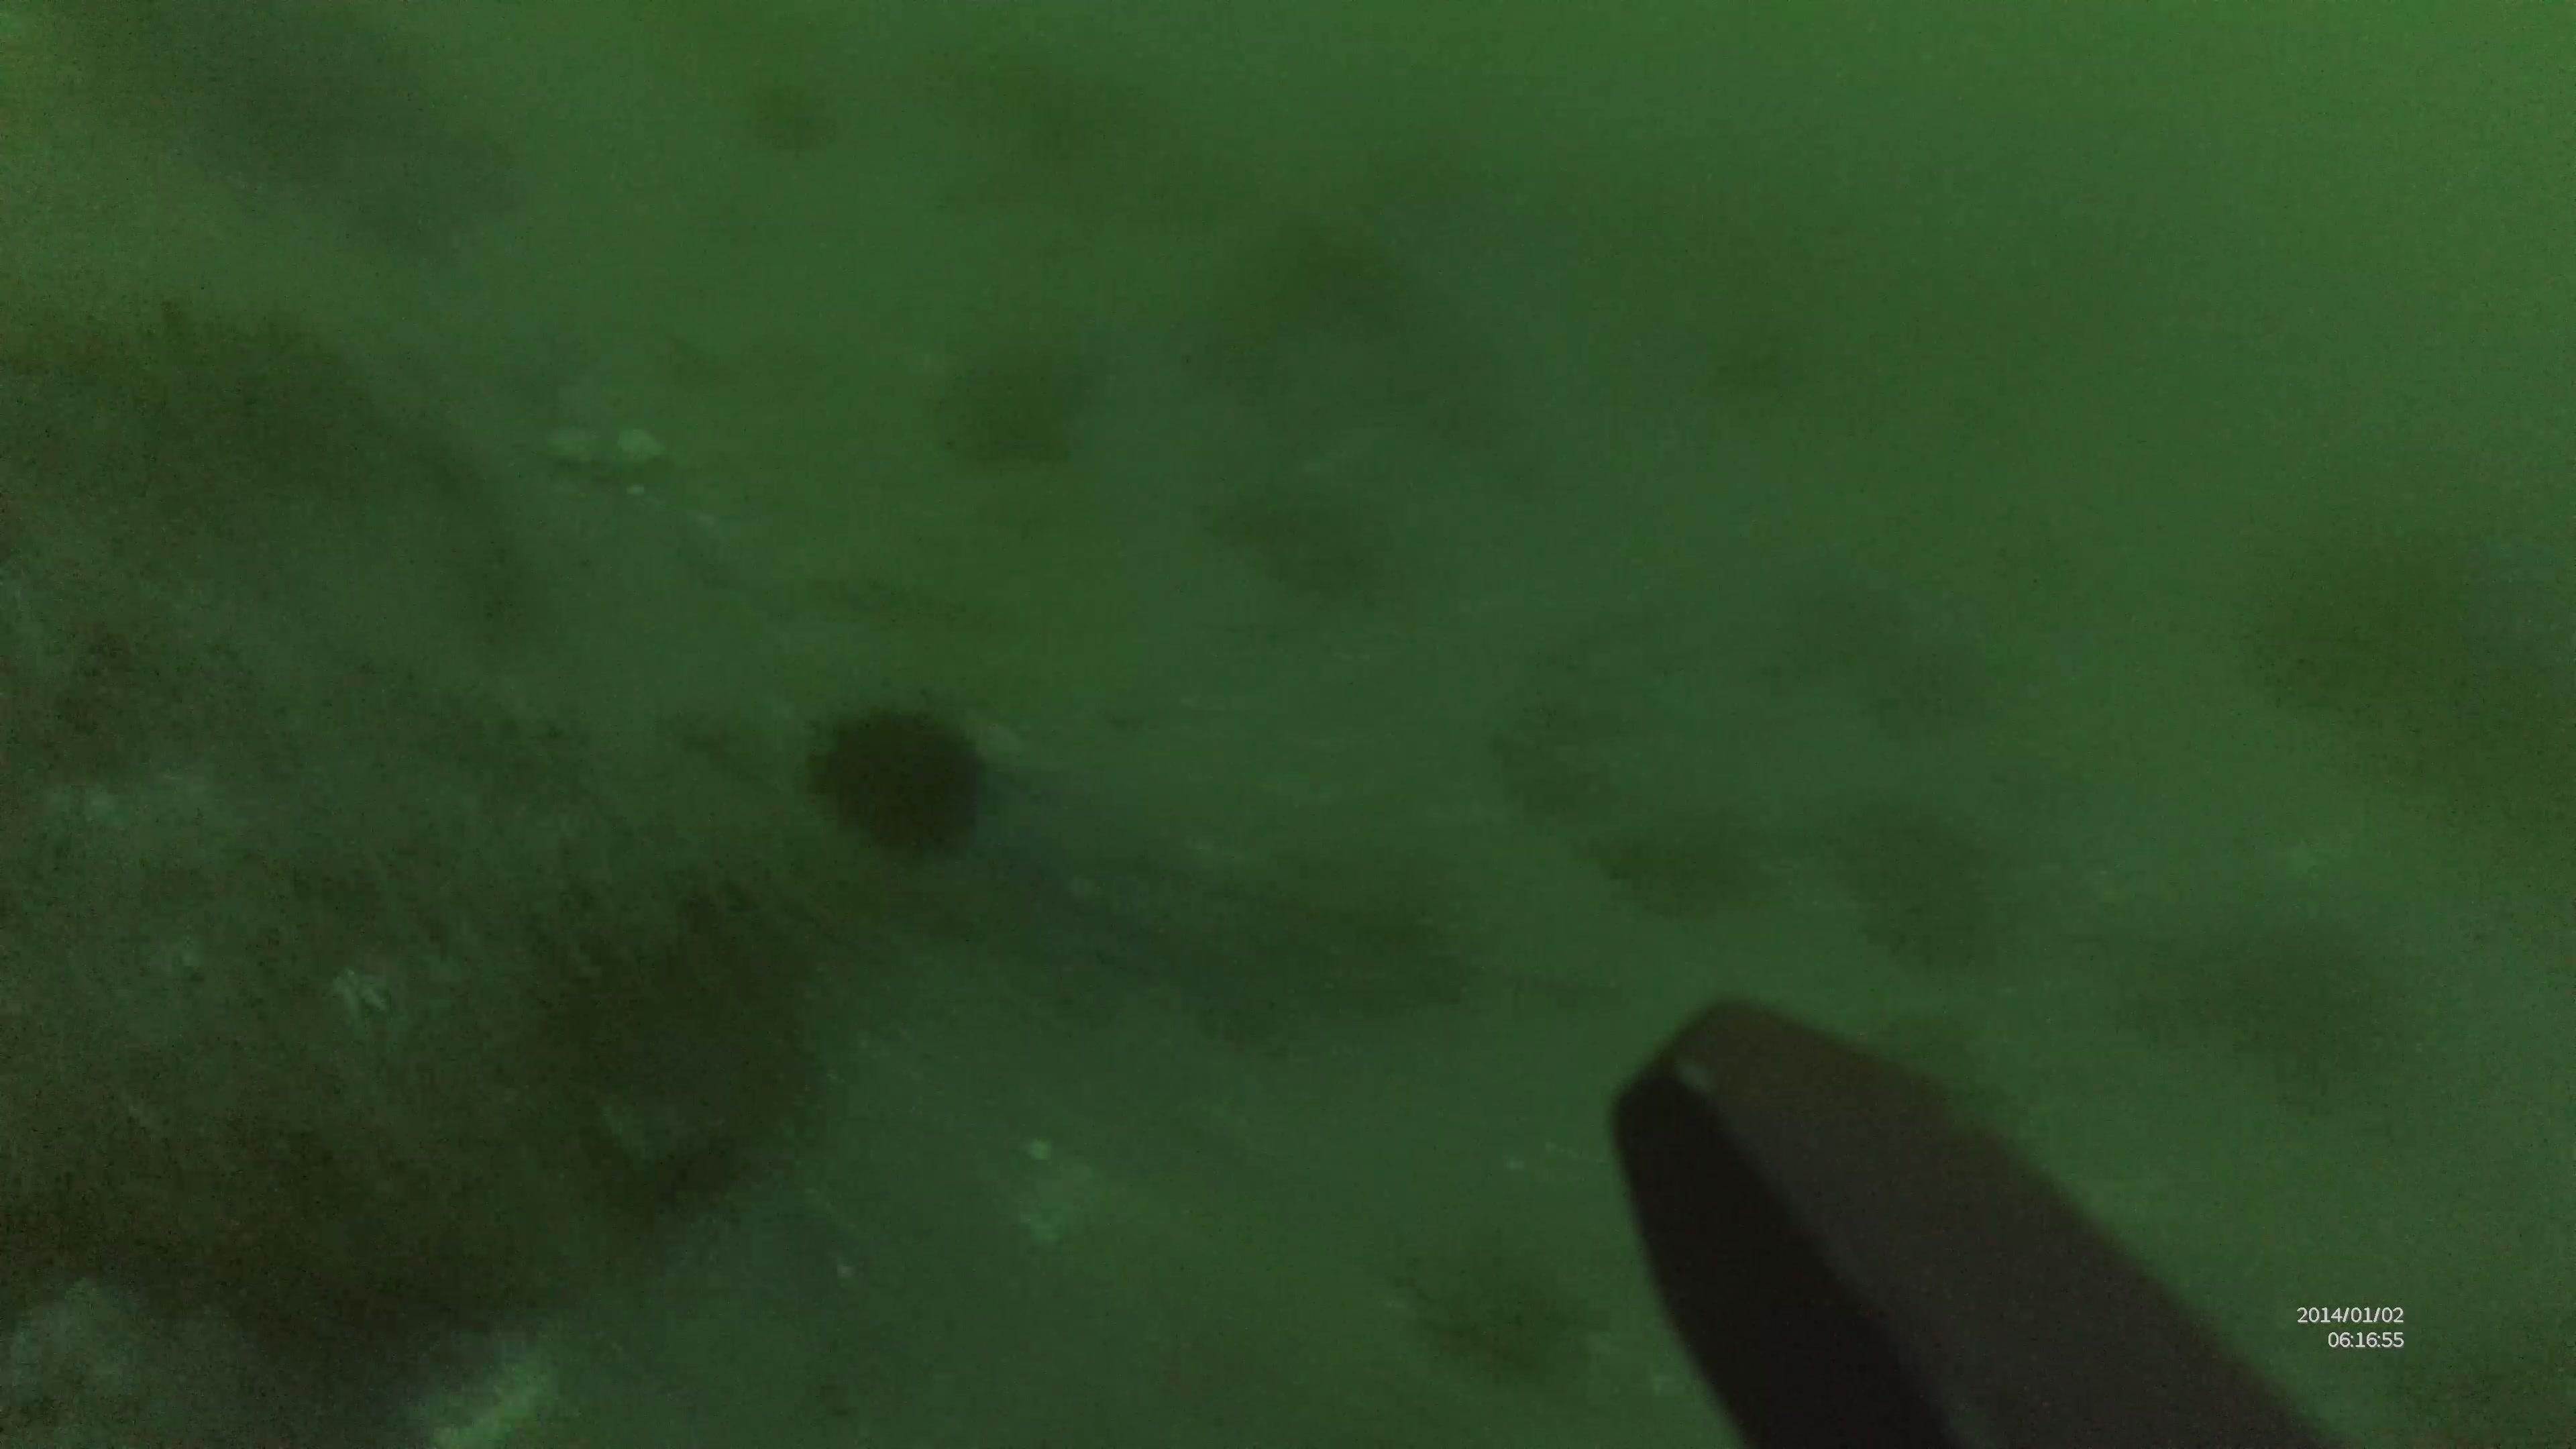echinus: (817, 701, 985, 853)
